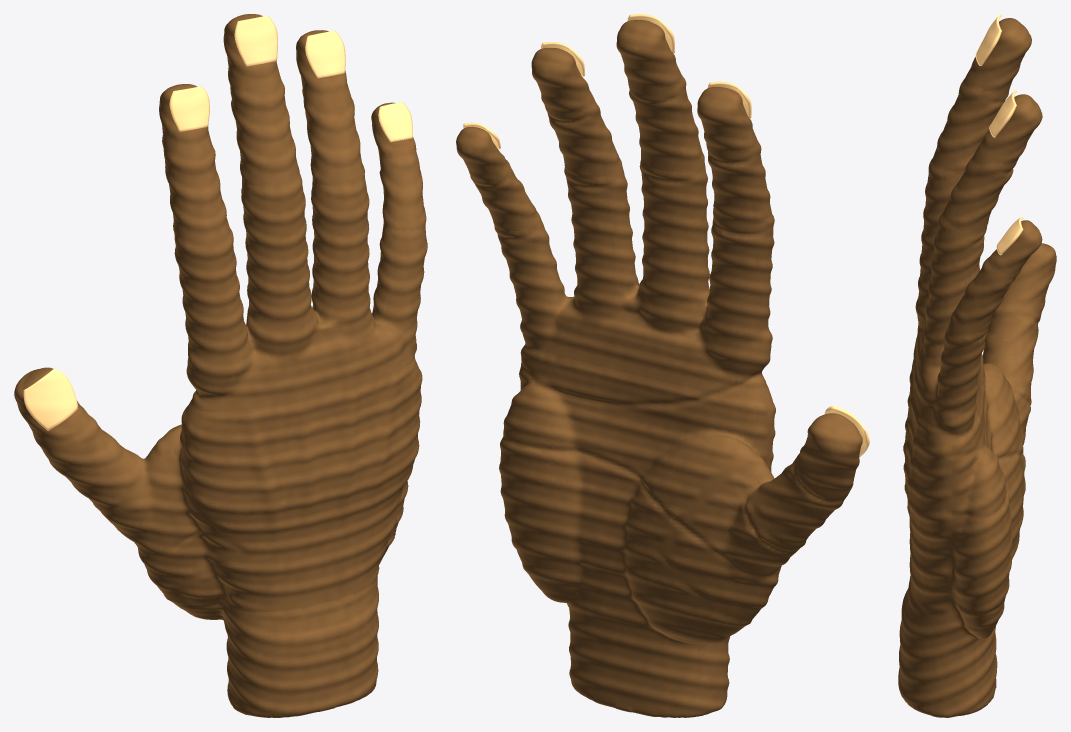
The model's file is family-18.glb.
3 views of the same model, side by side, from view 1: azimuth 30°, elevation 25°; view 2: azimuth 150°, elevation 25°; view 3: azimuth 270°, elevation 25° (orthographic). The views are drawn at different scales.
Visible parts, largest first — view 1: knuckles__knuckles_sculpt, back_of_hand__back_of_hand_sculpt, middle_sections__middle_sections_sculpt, wrist__wrist_sculpt, fingertips__fingertips_sculpt, palm__palm_sculpt, nails__thumb_claw, nails__middle_claw, nails__ring_claw, nails__index_claw, nails__pinky_claw; view 2: knuckles__knuckles_sculpt, palm__palm_sculpt, middle_sections__middle_sections_sculpt, wrist__wrist_sculpt, fingertips__fingertips_sculpt; view 3: palm__palm_sculpt, knuckles__knuckles_sculpt, middle_sections__middle_sections_sculpt, wrist__wrist_sculpt, back_of_hand__back_of_hand_sculpt, fingertips__fingertips_sculpt, nails__middle_claw, nails__ring_claw, nails__pinky_claw.
Part boxes in pixels (x1,y1,x2,y2): knuckles__knuckles_sculpt: [100, 174, 427, 594]; back_of_hand__back_of_hand_sculpt: [184, 356, 422, 612]; middle_sections__middle_sections_sculpt: [43, 79, 426, 513]; wrist__wrist_sculpt: [174, 559, 381, 717]; fingertips__fingertips_sculpt: [14, 14, 417, 451]; palm__palm_sculpt: [163, 403, 408, 605]; nails__thumb_claw: [23, 368, 78, 430]; nails__middle_claw: [234, 15, 277, 66]; nails__ring_claw: [305, 30, 345, 78]; nails__index_claw: [169, 86, 209, 131]; nails__pinky_claw: [378, 102, 412, 142]; knuckles__knuckles_sculpt: [494, 152, 806, 620]; palm__palm_sculpt: [499, 340, 771, 630]; middle_sections__middle_sections_sculpt: [470, 74, 853, 546]; wrist__wrist_sculpt: [530, 577, 742, 717]; fingertips__fingertips_sculpt: [456, 20, 862, 495]; palm__palm_sculpt: [950, 353, 1023, 629]; knuckles__knuckles_sculpt: [912, 156, 1031, 498]; middle_sections__middle_sections_sculpt: [934, 71, 1040, 392]; wrist__wrist_sculpt: [898, 576, 997, 717]; back_of_hand__back_of_hand_sculpt: [903, 358, 952, 617]; fingertips__fingertips_sculpt: [969, 18, 1056, 314]; nails__middle_claw: [975, 14, 1001, 65]; nails__ring_claw: [989, 90, 1016, 137]; nails__pinky_claw: [996, 217, 1023, 255].
Size of the model in its own units: 0.1316 by 0.2174 by 0.0476.
Materials: 2 (1 with a texture image).
